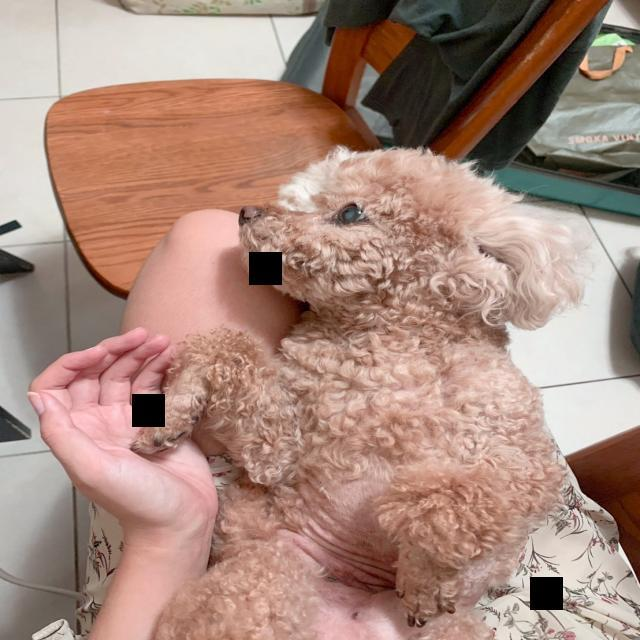adult_dog: (112, 143, 580, 637)
